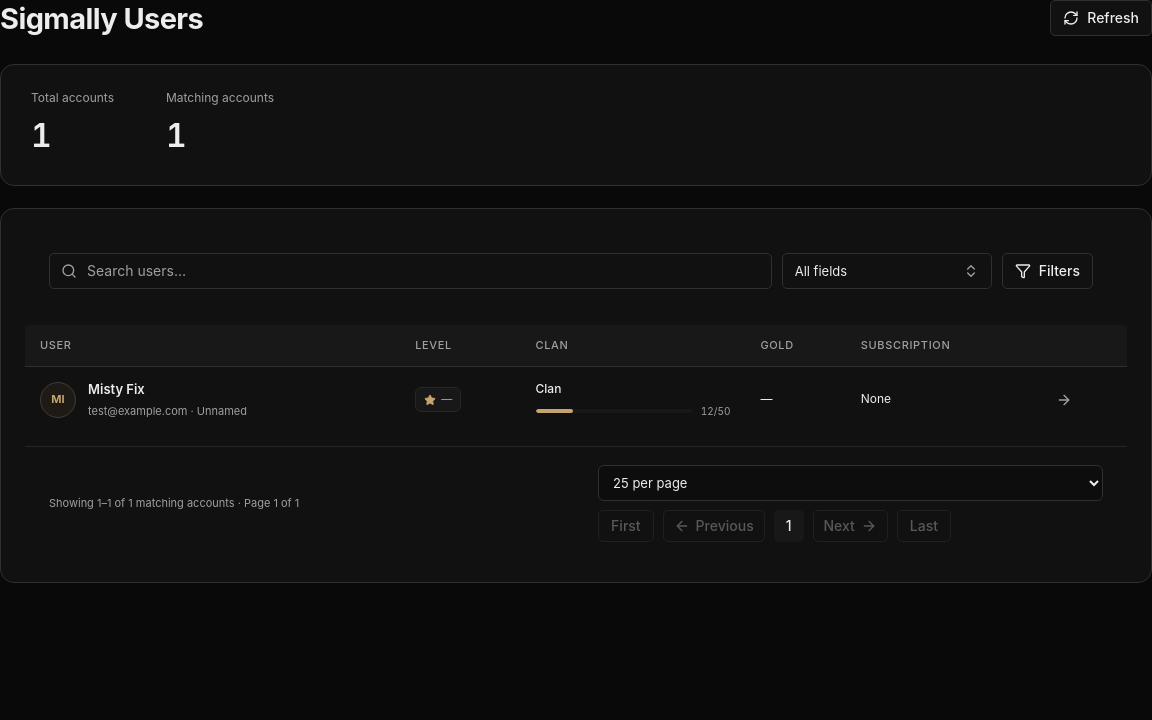
Test: uses the full name in the list and profile and puts the nickname after the email
Expected: the text "test@example.com · Unnamed" is shown, [88,403,247,420]
Expected: the text "12/50" is shown, [701,404,730,419]
Click the link named "View Misty Fix". click: (1064, 400)
box: [1056,392,1072,408]
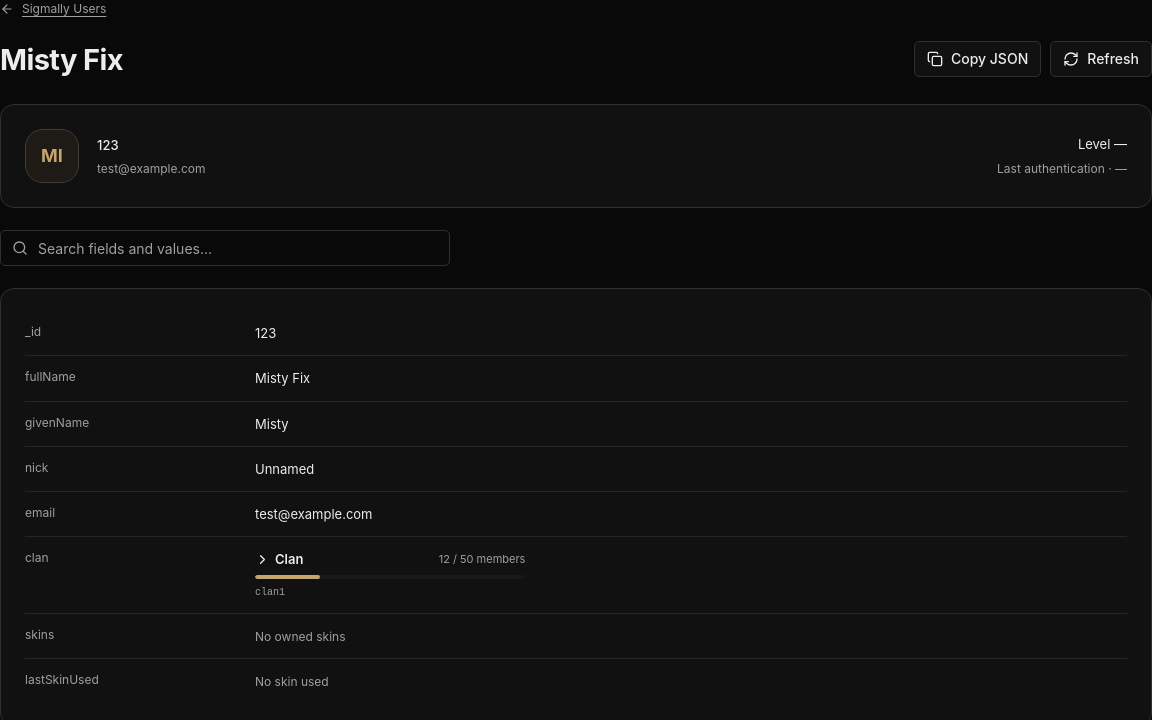
Result: the heading "Misty Fix" is shown at [0,41,123,78]
